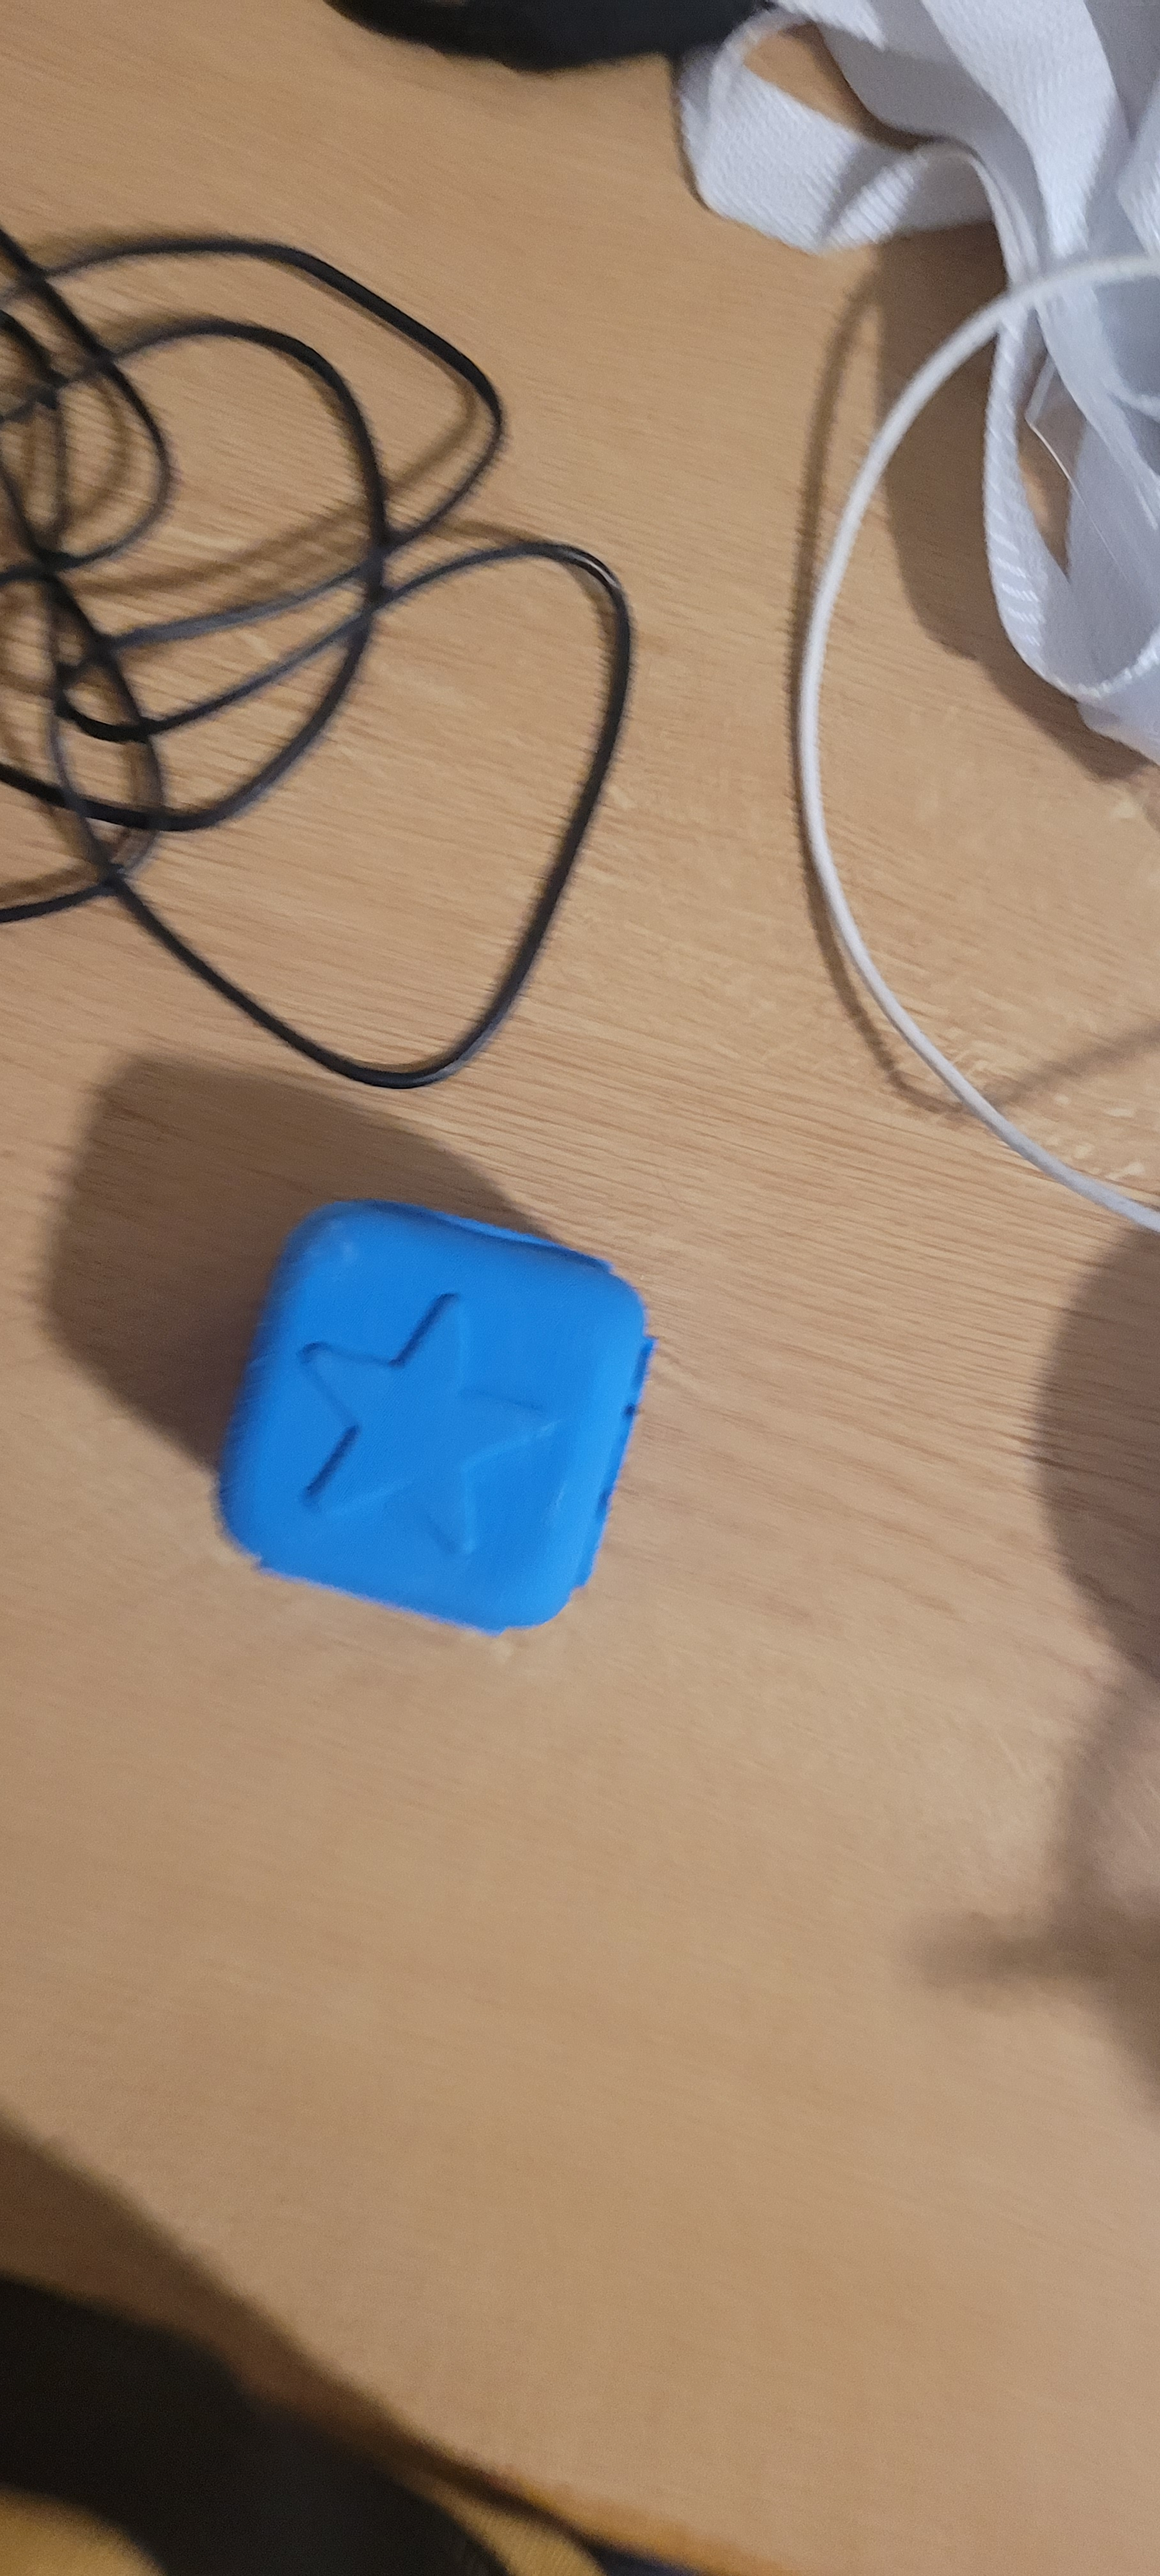Star: (255, 1170, 619, 1633)
